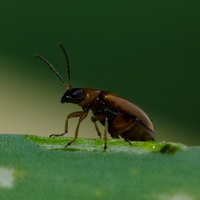insect: (36, 45, 154, 146)
